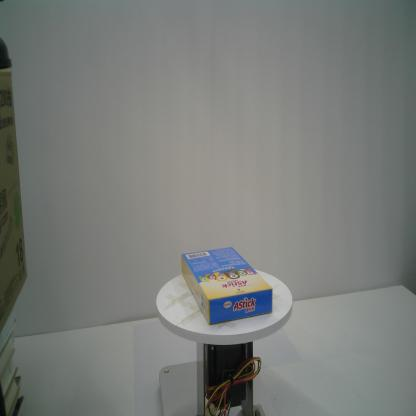Dessert: (181, 246, 272, 326)
